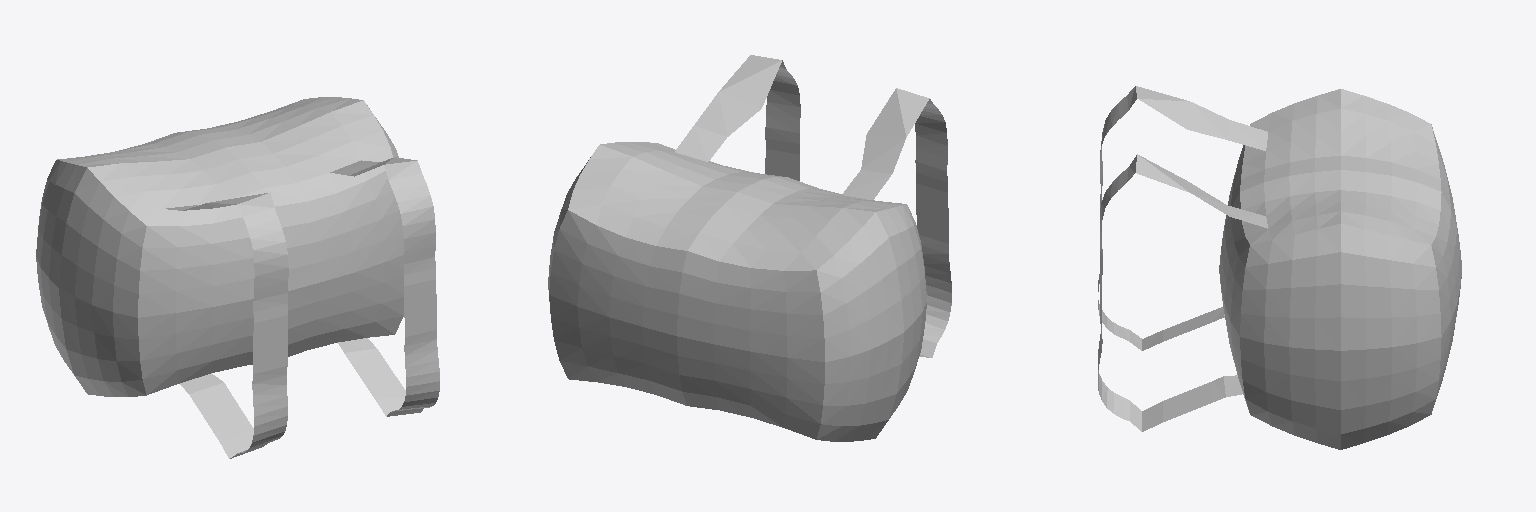
File: backpack_0_dense_flipped.obj
3 renders of one model, left to right at view 1: azimuth 30°, elevation 25°; view 2: azimuth 150°, elevation 25°; view 3: azimuth 270°, elevation 25°, orthographic.
Visible parts, largest first — view 1: backpack_0.005; view 2: backpack_0.005; view 3: backpack_0.005.
Boxes of the visible parts, <box> form: backpack_0.005: <box>36,97,439,458</box>; backpack_0.005: <box>548,55,951,441</box>; backpack_0.005: <box>1098,86,1461,449</box>.
Bounding box in the file's own units: 0.7388 × 0.549 × 0.6999.